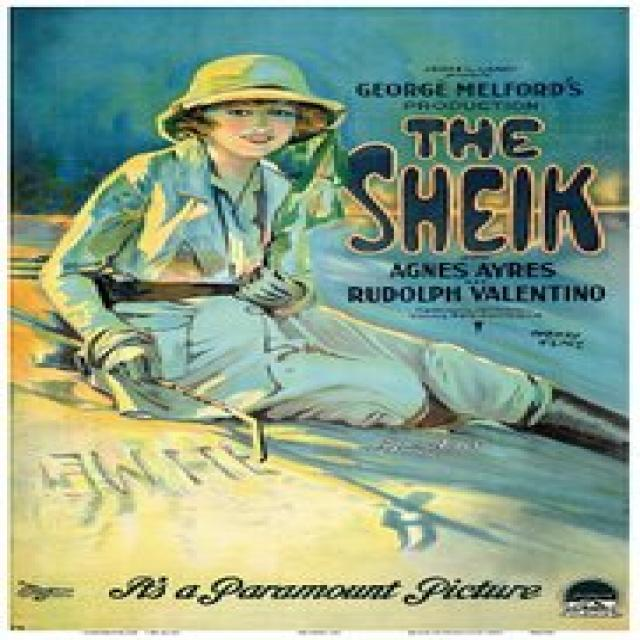movie-judul: (335, 105, 620, 286)
picture: (42, 56, 628, 443)
